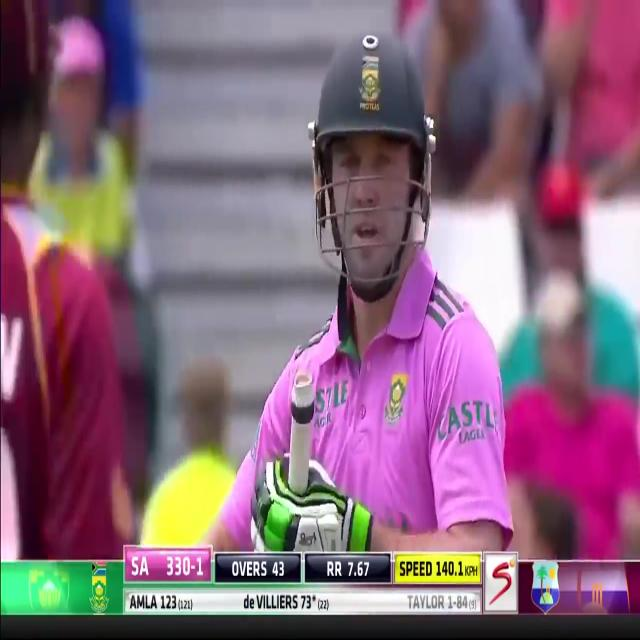Ball: (187, 24, 524, 548)
